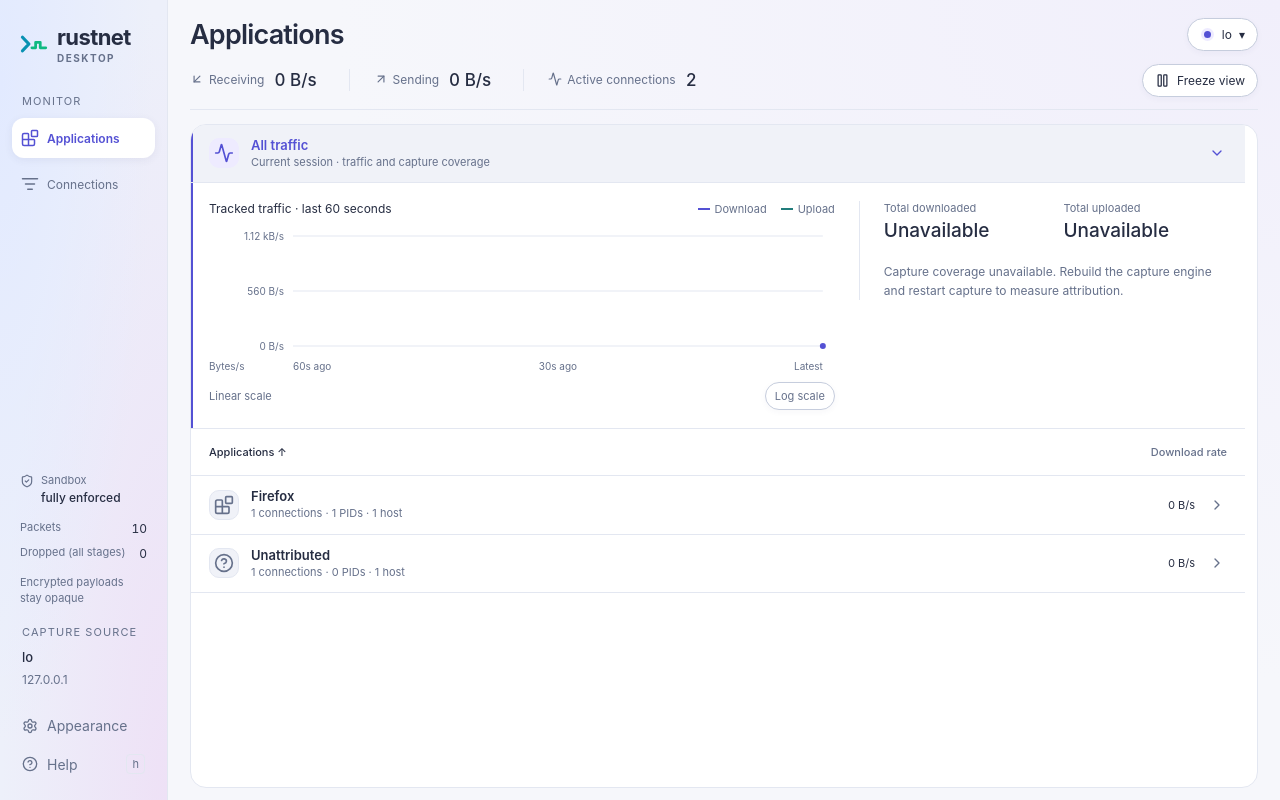
Test: desktop workflow › requests a clean stop and preserves the final snapshot
Expected: the button "Stop capture" is not shown
Click the button with aria-label "Capture settings".
click(1222, 35)  # box top-left (1187, 18), bottom-right (1258, 51)
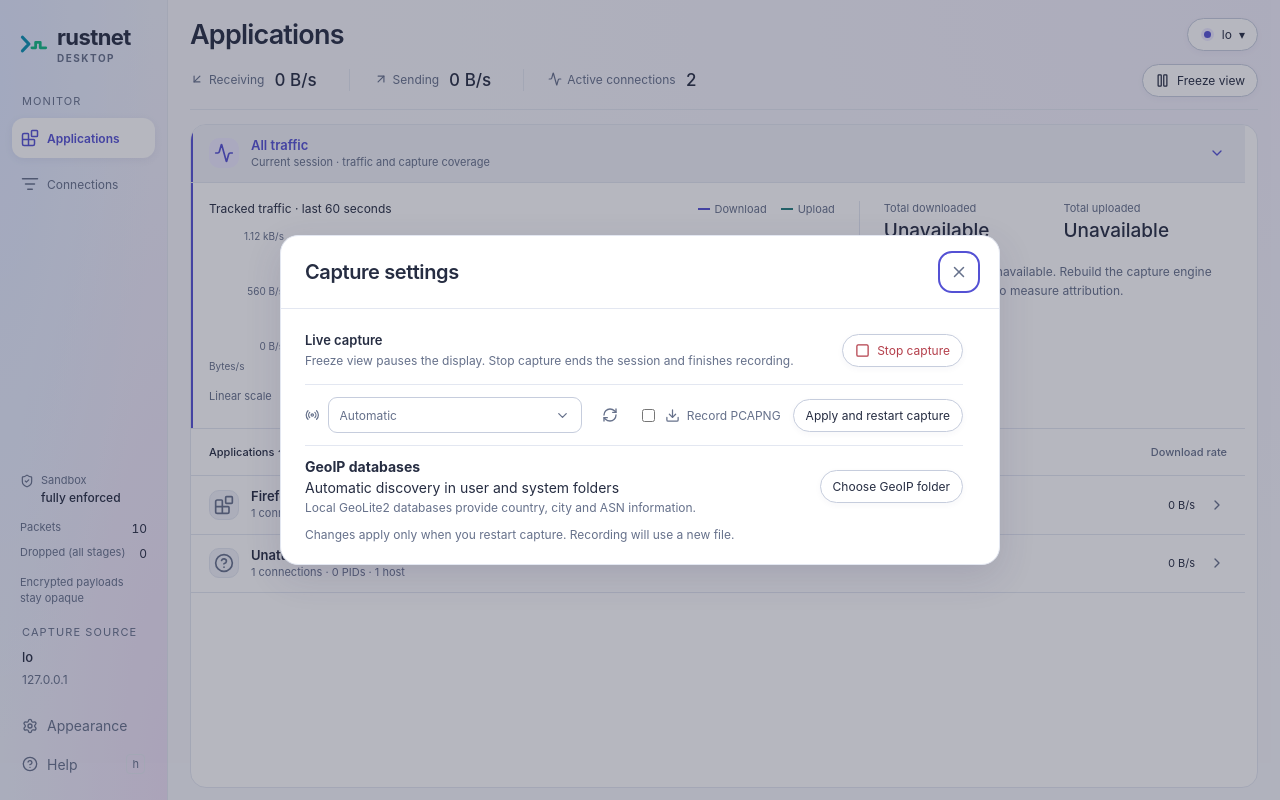
Click the button "Stop capture".
click(903, 350)  # box top-left (842, 334), bottom-right (963, 367)
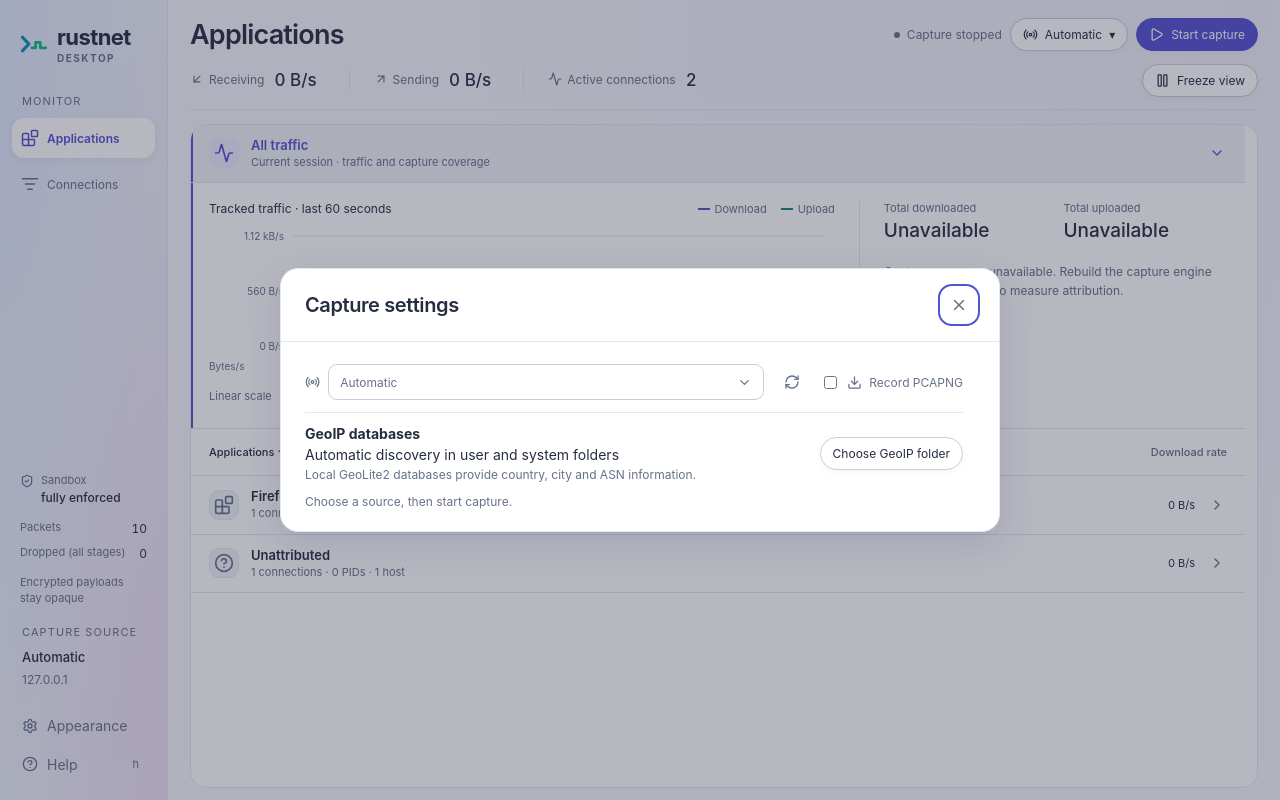
Expected: the button "Firefox 1 connections · 1 PIDs · 1 host 0 B/s" is shown, top-left (191, 476), bottom-right (1245, 534)
Result: the button "Start capture" is shown at top-left (1136, 18), bottom-right (1258, 51)
Result: the text "Capture stopped" is shown at top-left (894, 27), bottom-right (1002, 42)
